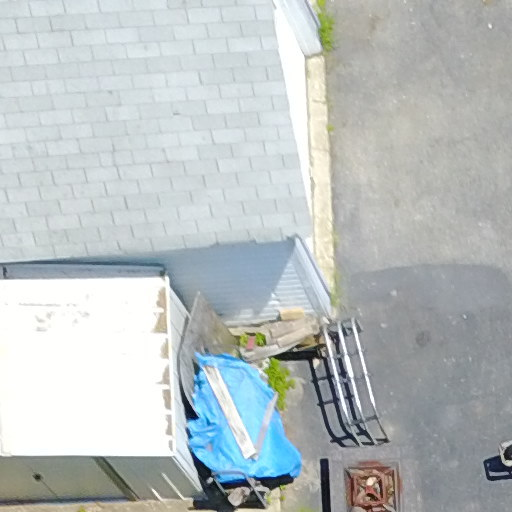tarp: (172, 342, 316, 512)
